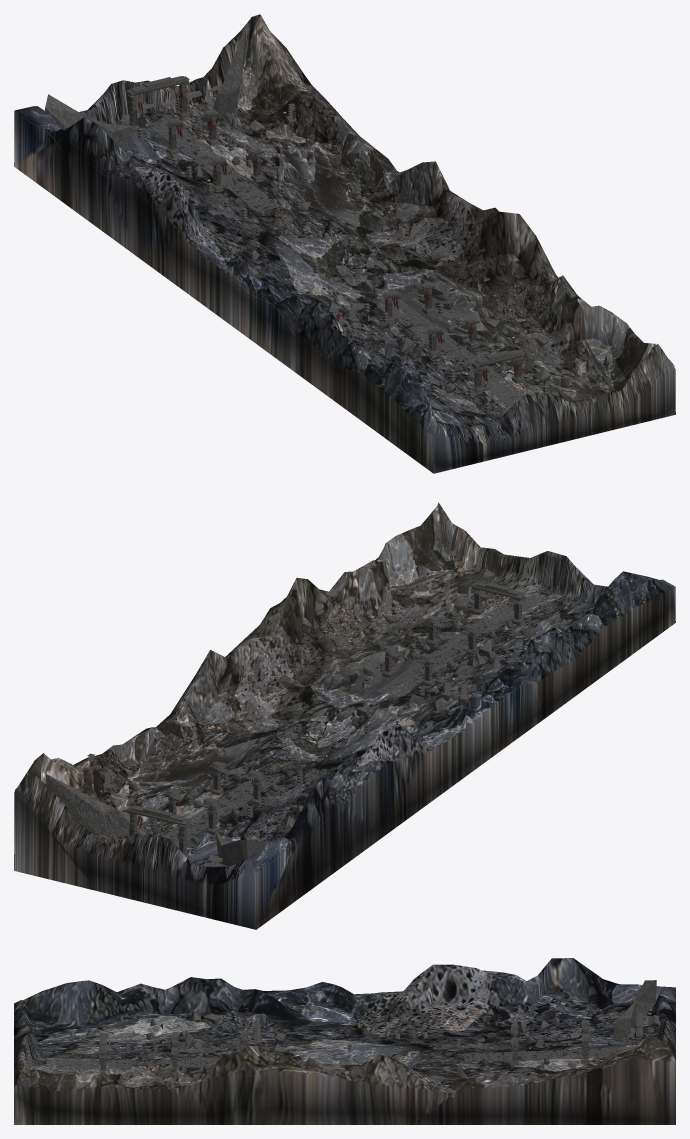
Rendered from world006_LOD2.fbx.
3 views of the same model, one above another, from view 1: azimuth 30°, elevation 25°; view 2: azimuth 150°, elevation 25°; view 3: azimuth 270°, elevation 25° (orthographic). The views are drawn at different scales.
Parts seen in each view (by area): view 1: LODMesh_0583, LODMesh_0580, LODMesh_0582, LODMesh_0581, LODMesh_0743, LODMesh_0750, LODMesh_0748, LODMesh_0747, LODMesh_0749, LODMesh_0737, LODMesh_0731, LODMesh_0742 (+25 smaller); view 2: LODMesh_0583, LODMesh_0580, LODMesh_0581, LODMesh_0582, LODMesh_0749, LODMesh_0743, LODMesh_0748, LODMesh_0742, LODMesh_0747, LODMesh_0021, LODMesh_0750, LODMesh_0736 (+22 smaller); view 3: LODMesh_0580, LODMesh_0583, LODMesh_0732, LODMesh_0731, LODMesh_0737, LODMesh_0729, LODMesh_0726, LODMesh_0730, LODMesh_0724, LODMesh_0582, LODMesh_0744, LODMesh_0728 (+18 smaller).
Part boxes in pixels (x1,y1,x2,y2): LODMesh_0583: (14,106,437,473); LODMesh_0580: (245,14,674,379); LODMesh_0582: (433,344,675,473); LODMesh_0581: (14,18,251,164); LODMesh_0743: (275,209,383,282); LODMesh_0750: (248,137,355,207); LODMesh_0748: (385,239,495,314); LODMesh_0747: (455,294,565,366); LODMesh_0749: (313,198,426,257); LODMesh_0737: (238,214,343,283); LODMesh_0731: (205,223,304,287); LODMesh_0742: (344,257,454,320); LODMesh_0583: (249,571,675,929); LODMesh_0580: (14,504,442,869); LODMesh_0581: (14,771,256,929); LODMesh_0582: (437,502,675,622); LODMesh_0749: (194,694,304,768); LODMesh_0743: (232,714,345,771); LODMesh_0748: (264,648,375,713); LODMesh_0742: (303,667,411,738); LODMesh_0747: (332,603,429,666); LODMesh_0021: (45,774,145,836); LODMesh_0750: (123,756,233,808); LODMesh_0736: (346,677,452,740); LODMesh_0580: (14,1034,675,1124); LODMesh_0583: (23,958,674,1029); LODMesh_0732: (451,1016,568,1044); LODMesh_0731: (344,1019,457,1044); LODMesh_0737: (344,1042,456,1065); LODMesh_0729: (121,1026,236,1050); LODMesh_0726: (451,994,569,1023); LODMesh_0730: (232,1025,345,1046); LODMesh_0724: (232,1002,344,1031); LODMesh_0582: (14,1000,40,1121); LODMesh_0744: (452,1054,569,1078); LODMesh_0728: (34,1029,127,1051).
Bounding box in the file's own units: 20005 × 8574 × 60000.
